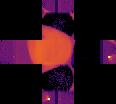earth: (28, 25, 72, 74)
